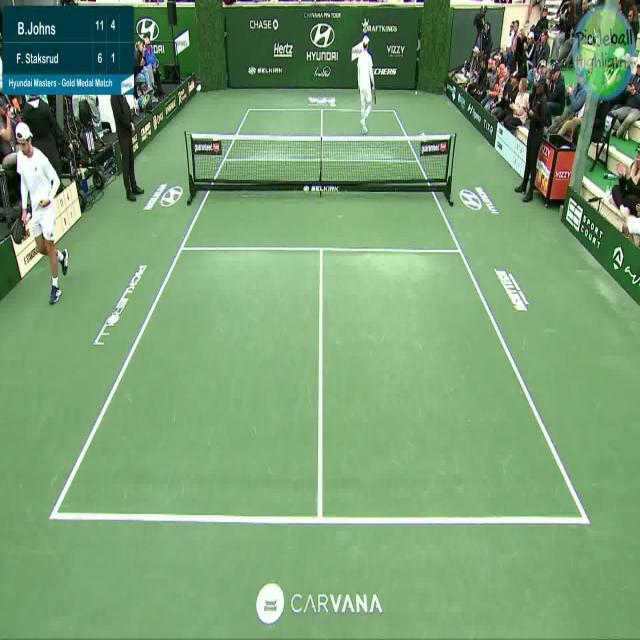ball: (414, 88, 420, 99)
